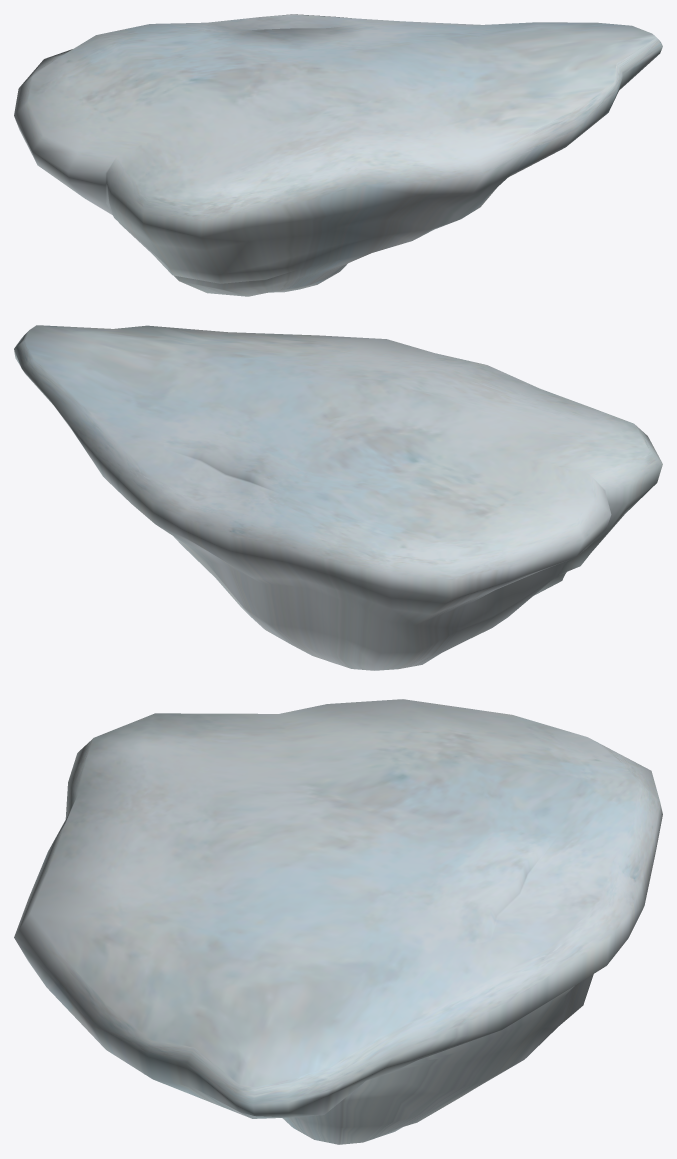
File: P_RockDesert_CliffHalf07.obj
The picture shows the model from 3 angles, top to bottom: view 1: azimuth 30°, elevation 25°; view 2: azimuth 150°, elevation 25°; view 3: azimuth 270°, elevation 25°; orthographic projection. The views are drawn at different scales.
Size of the model in its own units: 76.06 by 26.79 by 51.54.
